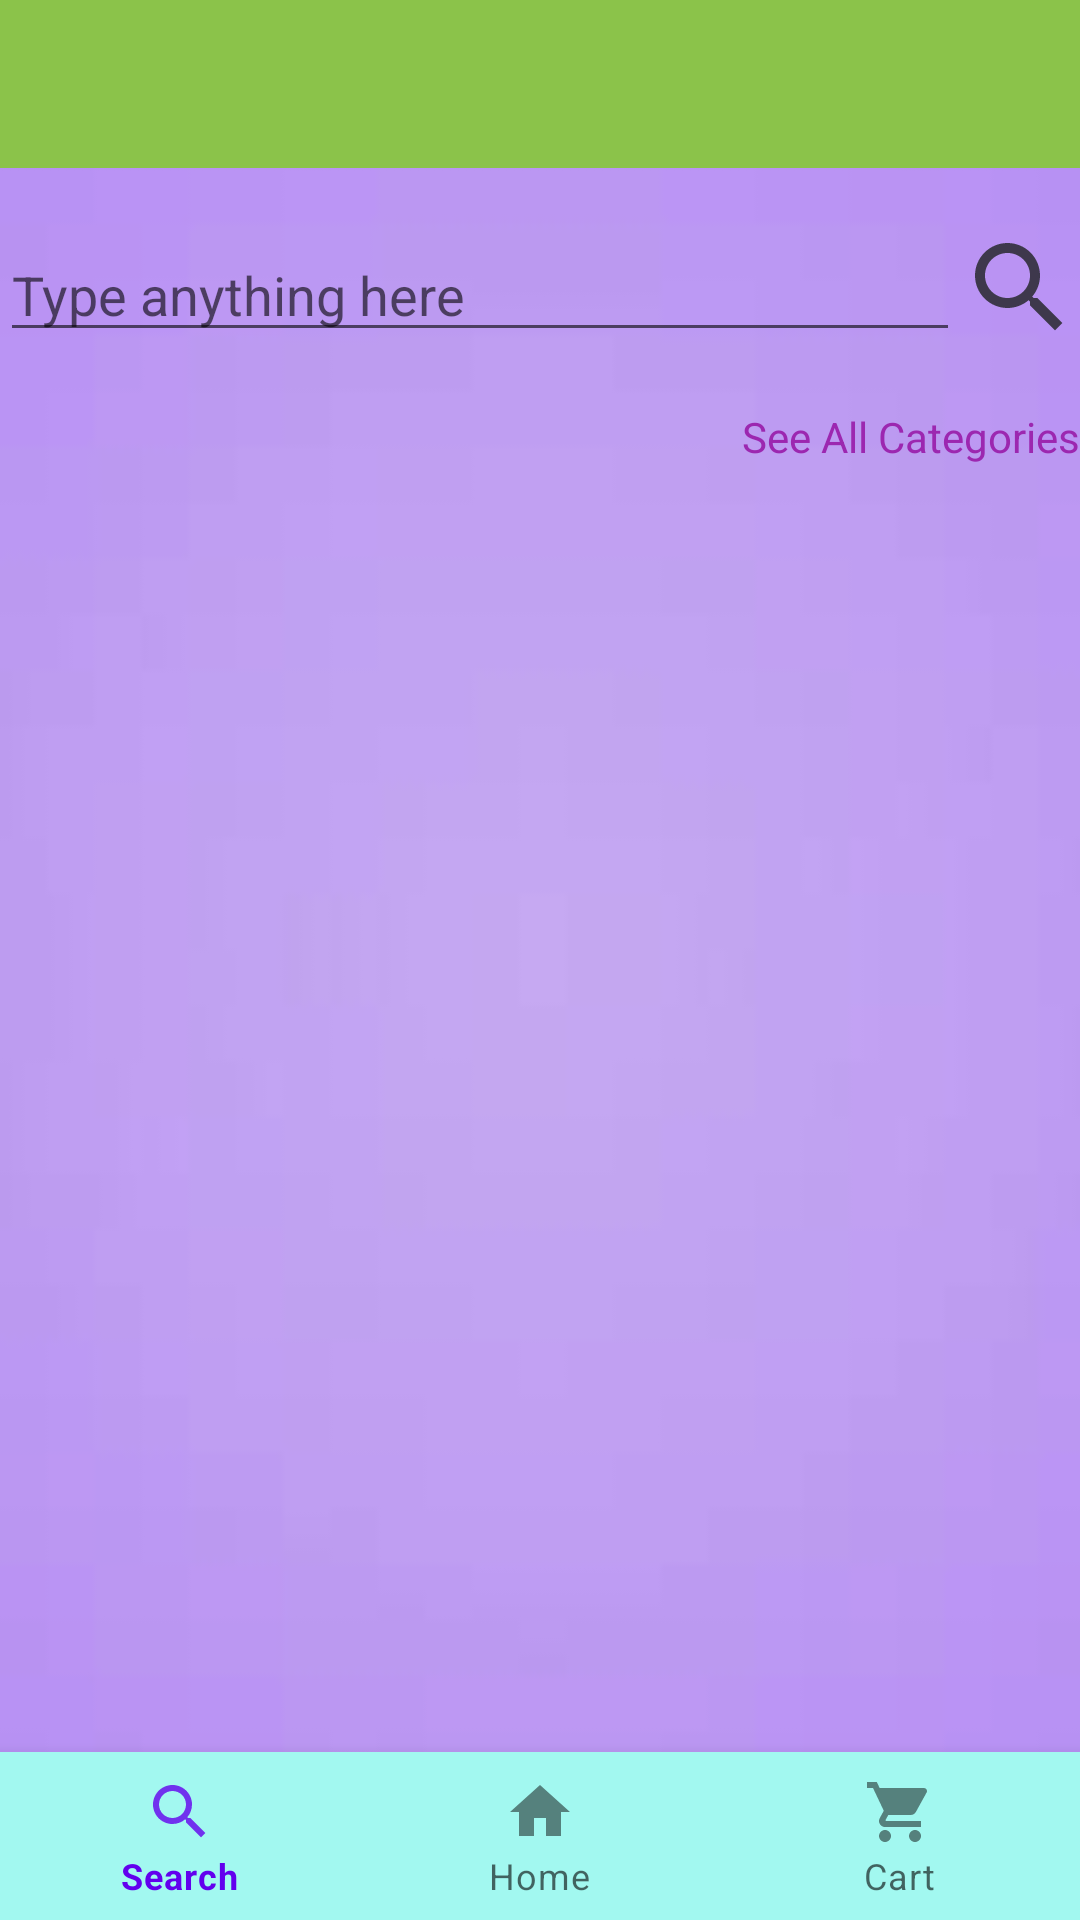

Icons on this 1080px x 1920px Android screen, each with its box as Rect(x1, y1, x2, y2):
search: Rect(975, 243, 1062, 330)
